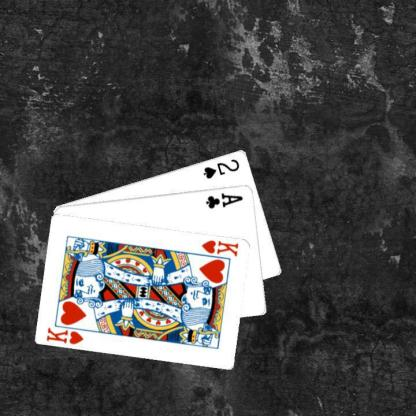2S: (200, 156, 241, 180)
AC: (204, 190, 244, 210)
KH: (199, 237, 240, 257), (44, 325, 85, 345)
